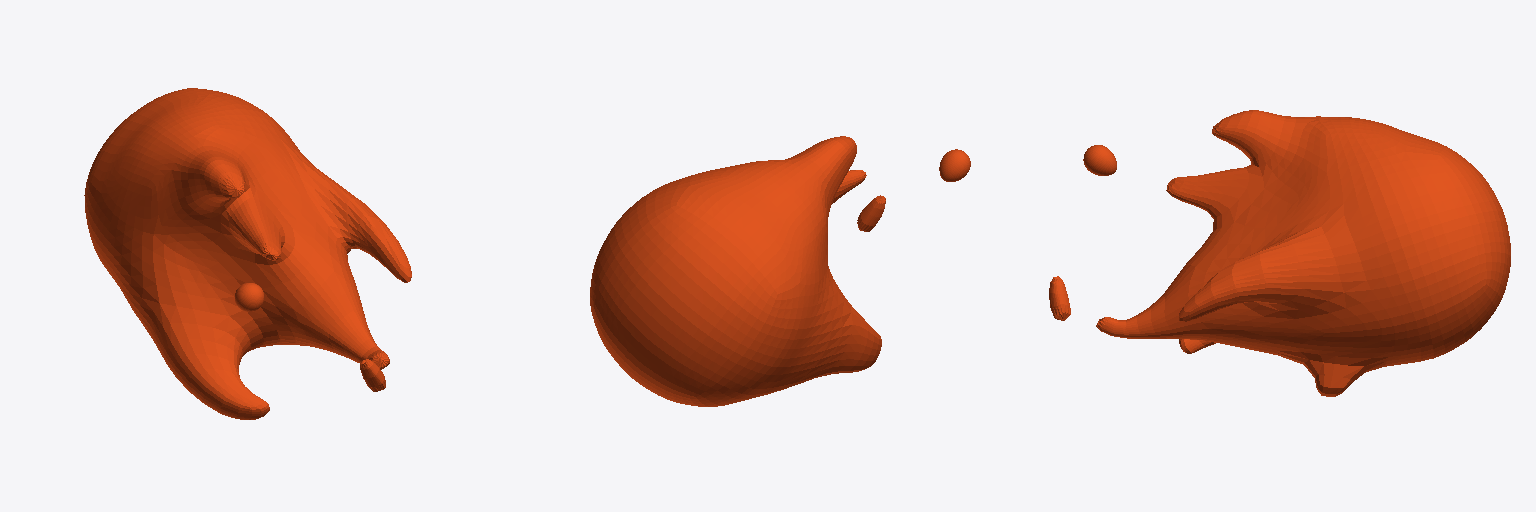
File: fire.obj
The picture shows the model from 3 angles: view 1: azimuth 30°, elevation 25°; view 2: azimuth 150°, elevation 25°; view 3: azimuth 270°, elevation 25°; orthographic projection.
Parts seen in each view (by area): view 1: Circle; view 2: Circle; view 3: Circle.
Boxes of the visible parts, x1=… form: Circle: x1=84, y1=88, x2=411, y2=419; Circle: x1=590, y1=136, x2=970, y2=406; Circle: x1=1049, y1=110, x2=1510, y2=396.
Bounding box in the file's own units: 0.0855 × 0.0887 × 0.1559.